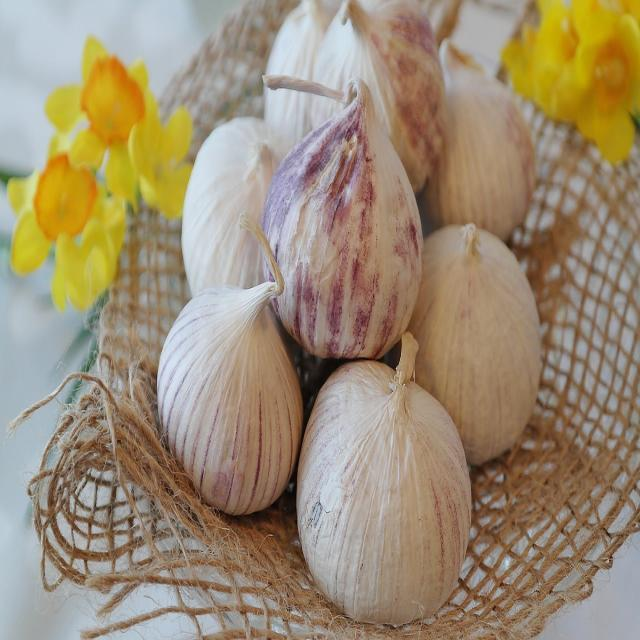garlic: (301, 328, 475, 630), (262, 88, 424, 368), (156, 262, 304, 523), (412, 228, 544, 476), (310, 0, 448, 202), (180, 116, 298, 296), (431, 45, 534, 238)
